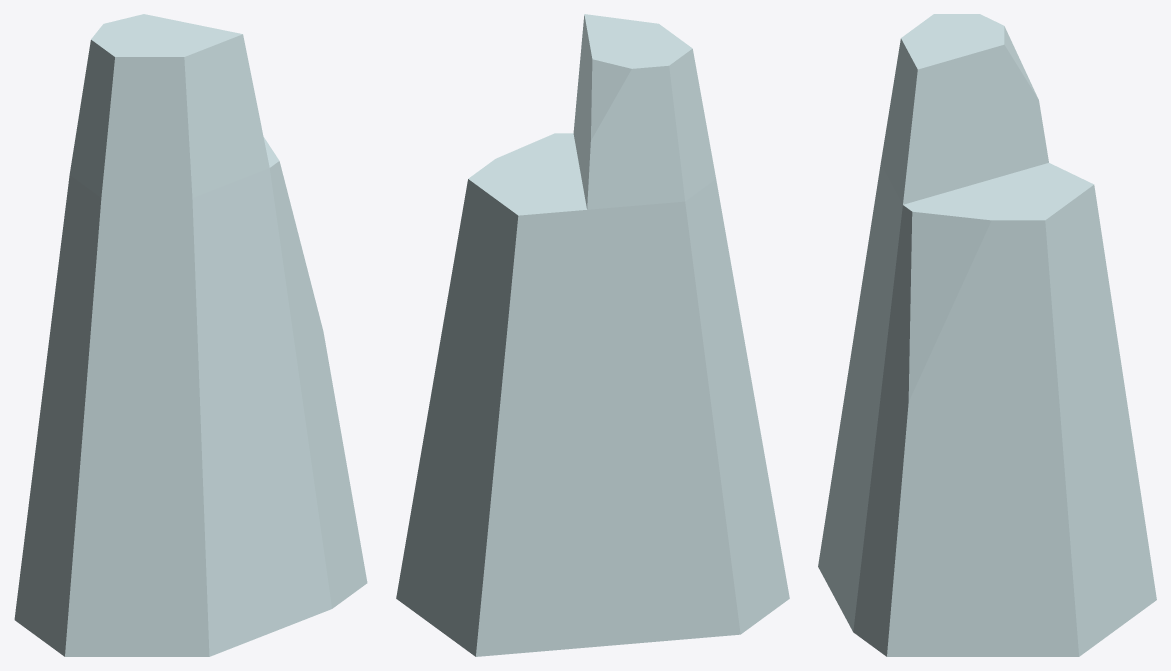
Rendered from stone_tallI.glb.
3 views of the same model, side by side, from view 1: azimuth 30°, elevation 25°; view 2: azimuth 150°, elevation 25°; view 3: azimuth 270°, elevation 25° (orthographic). The views are drawn at different scales.
Visible parts, largest first — view 1: stone_tallI; view 2: stone_tallI; view 3: stone_tallI.
Boxes of the visible parts, x1=… form: stone_tallI: x1=14, y1=14, x2=367, y2=656; stone_tallI: x1=396, y1=14, x2=789, y2=656; stone_tallI: x1=818, y1=14, x2=1156, y2=656.
Bounding box in the file's own units: 0.4562 × 0.8118 × 0.4644.
1 material, 1 textured.
